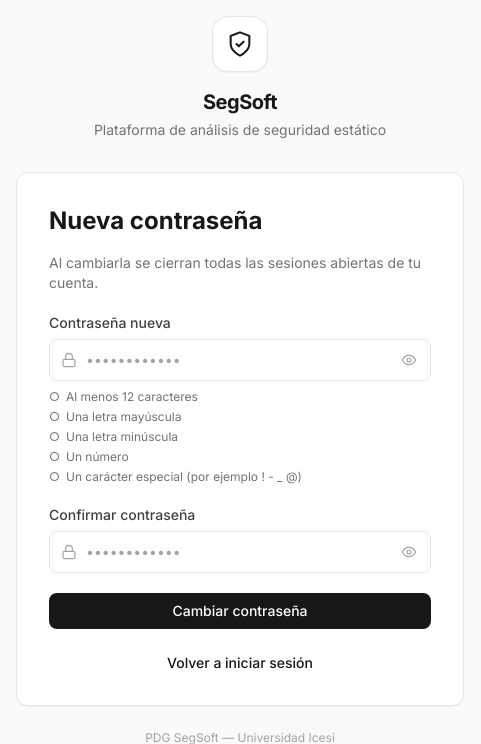
it: ResetPassword › offers a new link when this one was used or expired
The image size is (481, 744).
In the password field labelled "Contraseña nueva": [240, 360] box x1=49 y1=339 x2=431 y2=381, type "Clave-Recuperada-2026!"
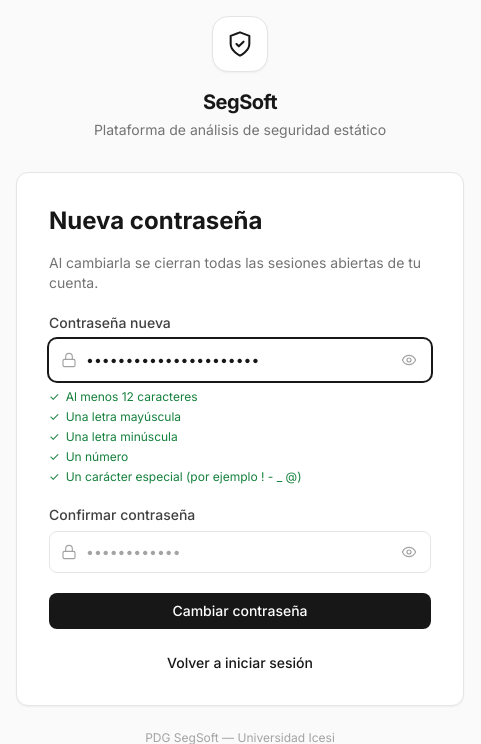
In the password field labelled "Confirmar contraseña": [240, 552] box x1=49 y1=531 x2=431 y2=573, type "Clave-Recuperada-2026!"
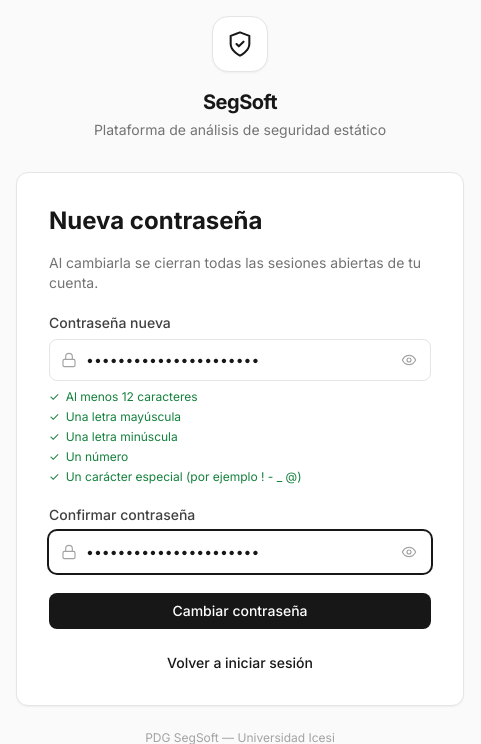
Click the button "Cambiar contraseña": [240, 611] box x1=49 y1=593 x2=431 y2=629
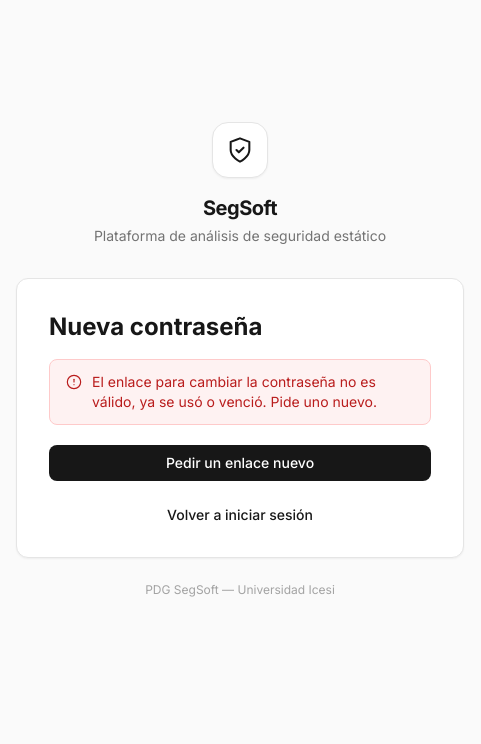
Now the message shows "ya se usó o venció", box x1=92 y1=373 x2=377 y2=410
Now the button "Cambiar contraseña" is gone
